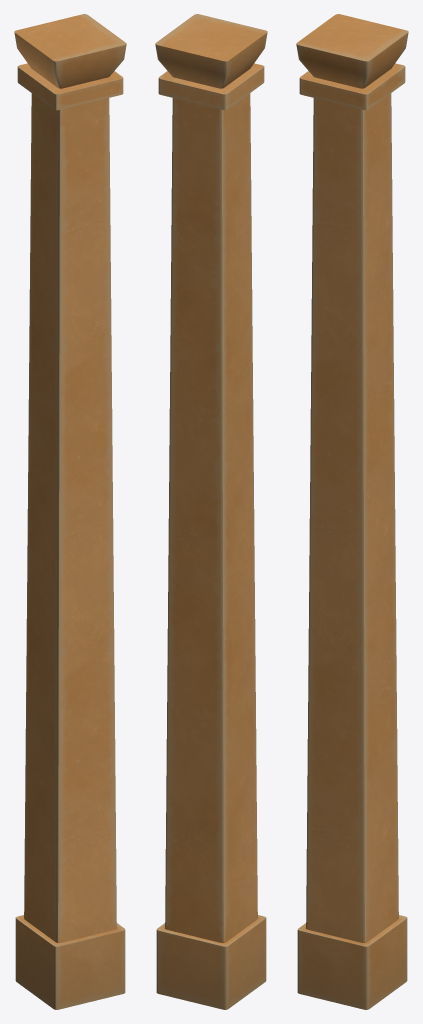
Rendered from SM_Env_Pillar_A.fbx.
3 renders of one model, left to right at view 1: azimuth 30°, elevation 25°; view 2: azimuth 150°, elevation 25°; view 3: azimuth 330°, elevation 25°, orthographic.
Parts seen in each view (by area): view 1: Pillar_A; view 2: Pillar_A; view 3: Pillar_A.
Part boxes in pixels (x1,y1,x2,y2): Pillar_A: (14, 14, 126, 1009); Pillar_A: (155, 14, 267, 1009); Pillar_A: (296, 14, 408, 1009).
Bounding box in the file's own units: 24.13 × 300 × 24.13.
1 material, 1 textured.
